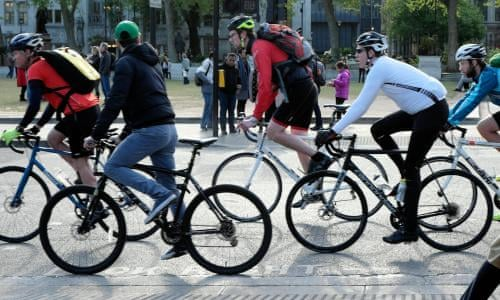helmet: (8, 32, 43, 68), (355, 31, 388, 68), (454, 43, 487, 78), (226, 14, 256, 50)
